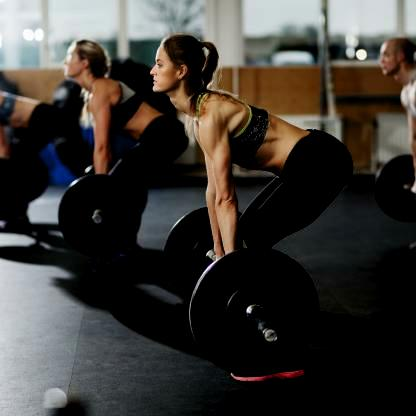Barbell: (262, 326, 283, 346)
